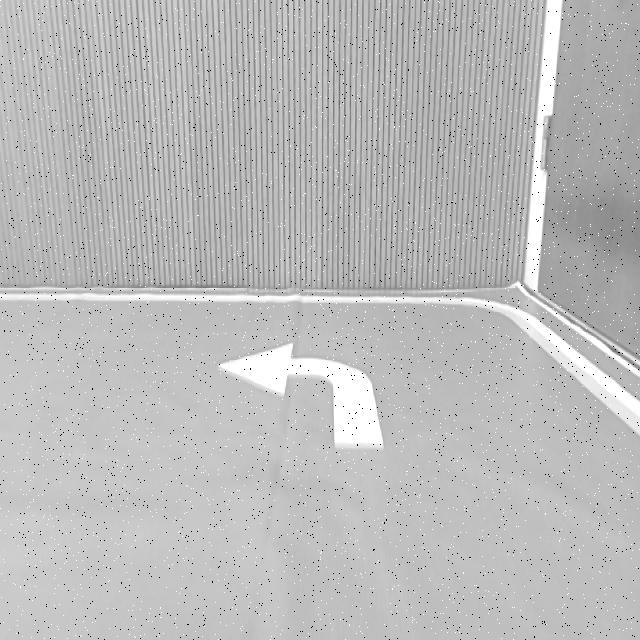right_lane: (511, 317, 640, 438)
